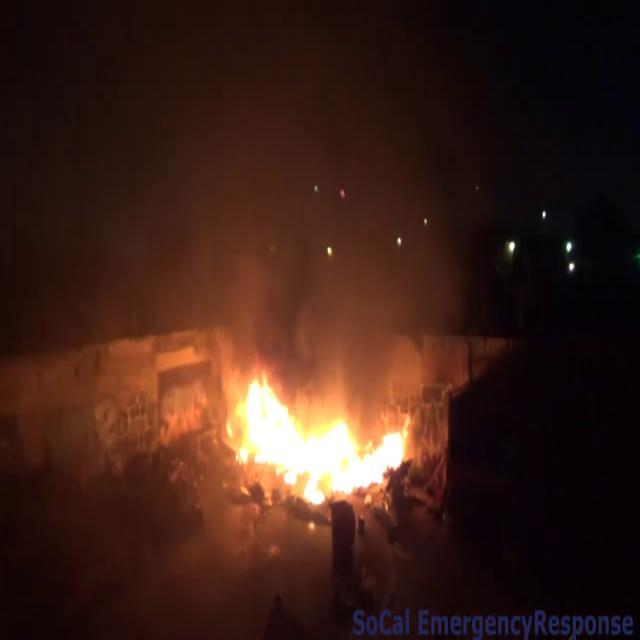Fire: (220, 365, 417, 503)
Smoke: (123, 0, 440, 376)
